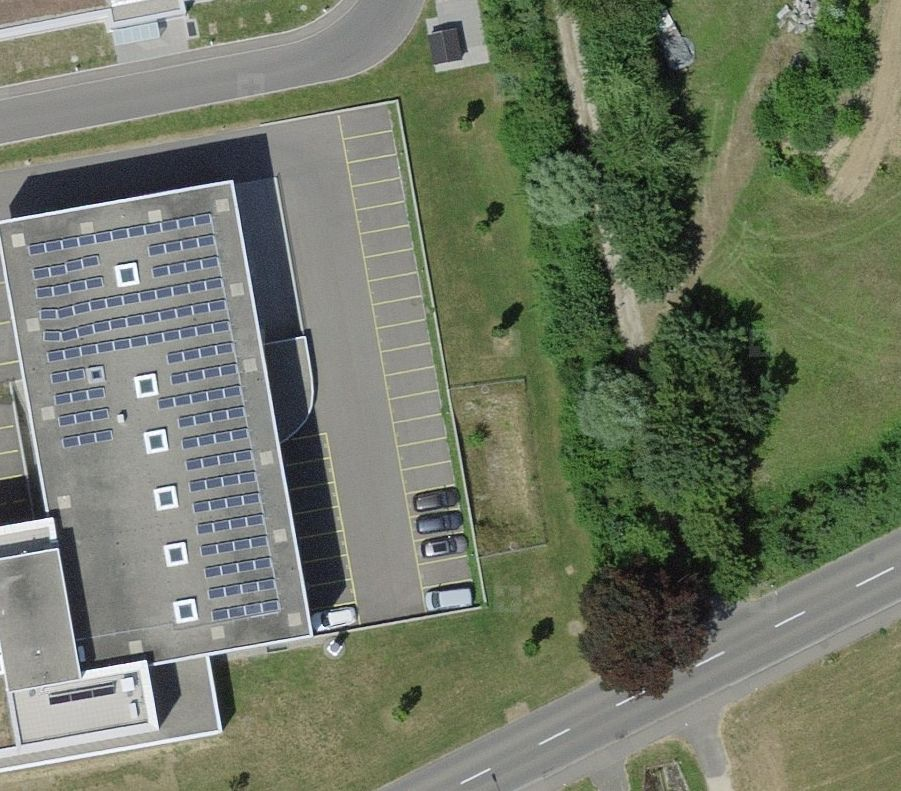solar: (23, 211, 280, 621)
